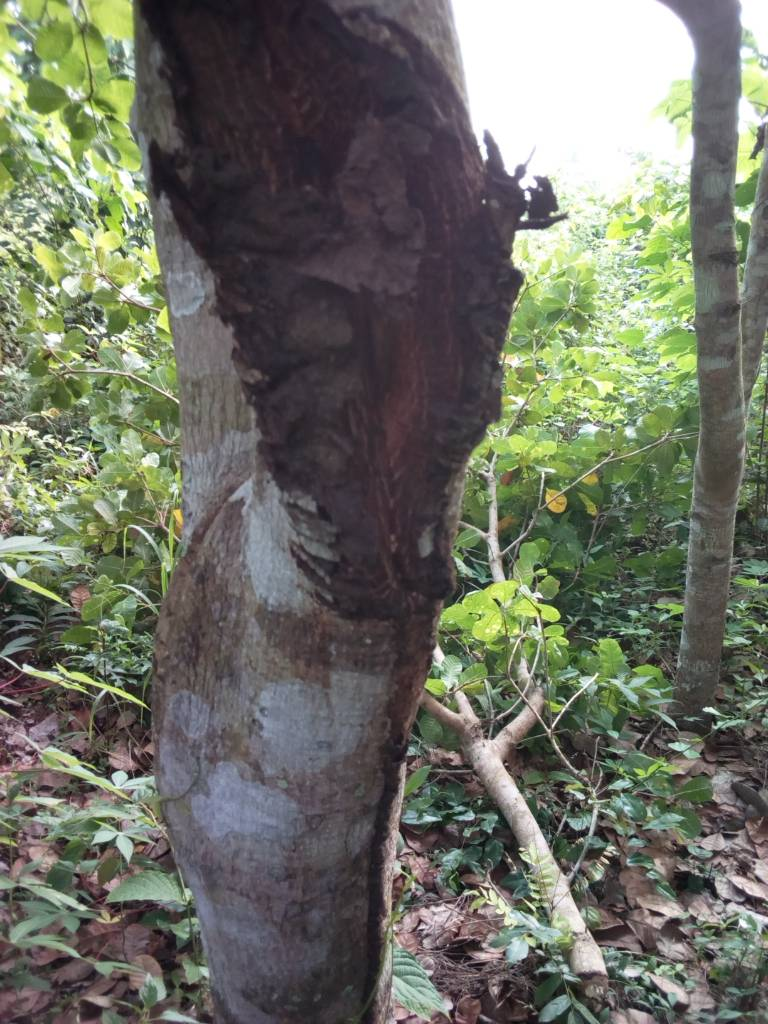Termites: (360, 644, 405, 1021)
